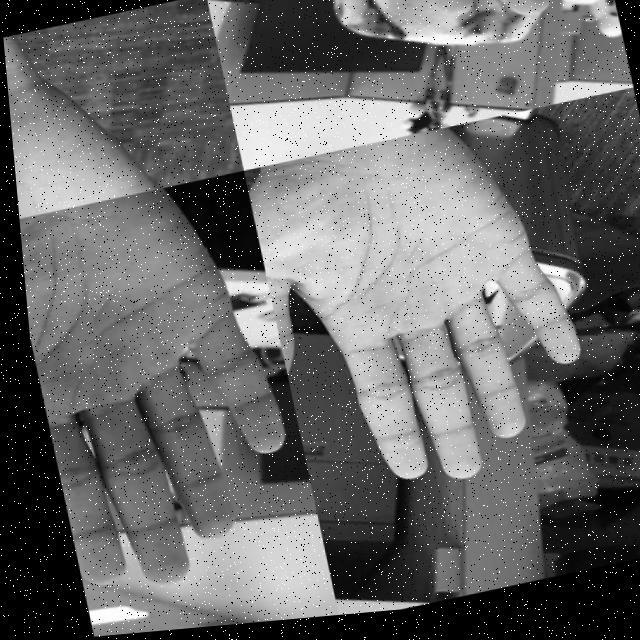no-gloves: (237, 114, 601, 522), (14, 172, 308, 604), (1, 0, 228, 220), (261, 0, 617, 79)
